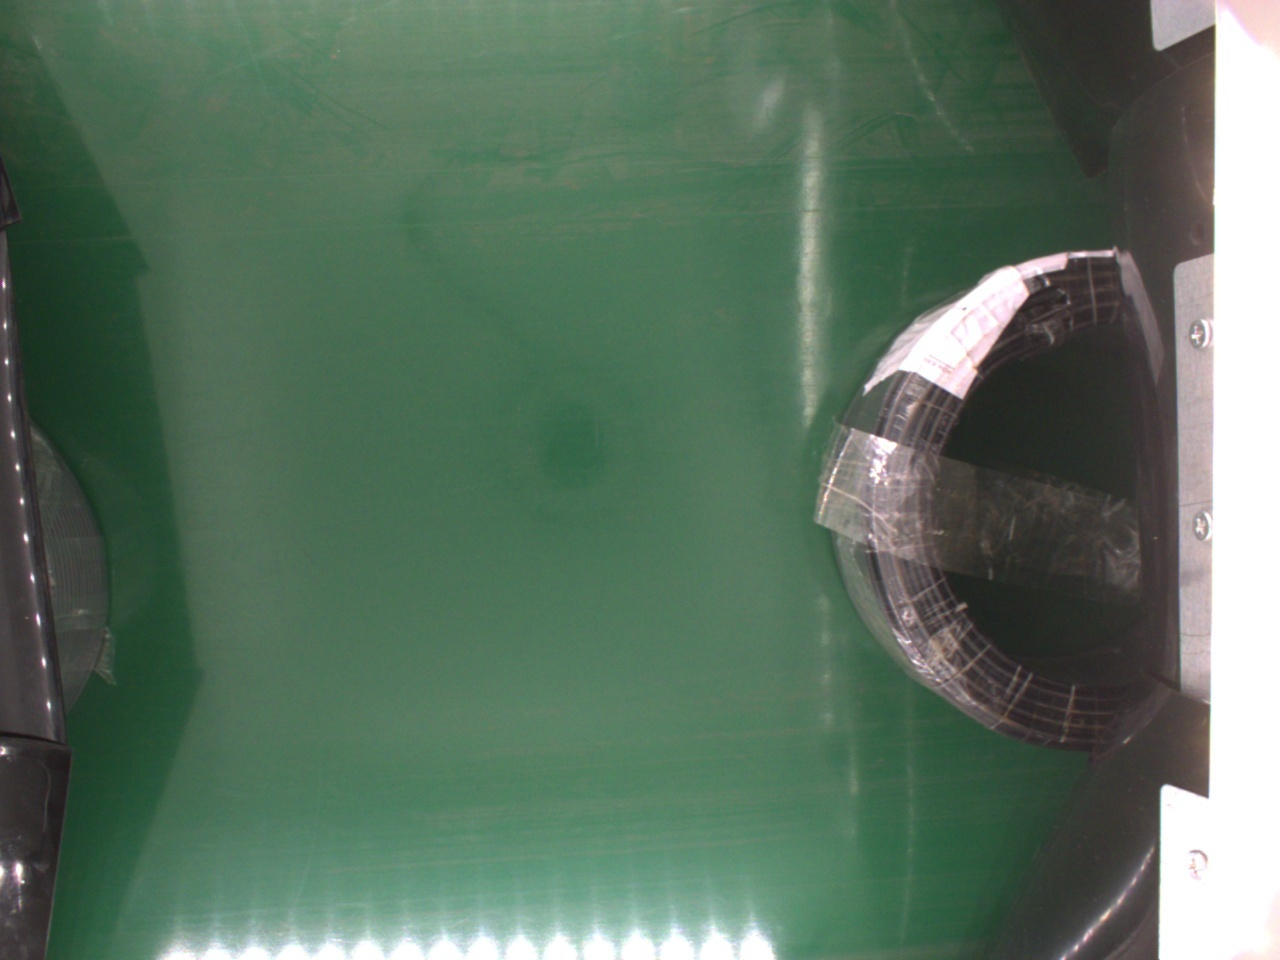black: (833, 245, 1149, 751)
